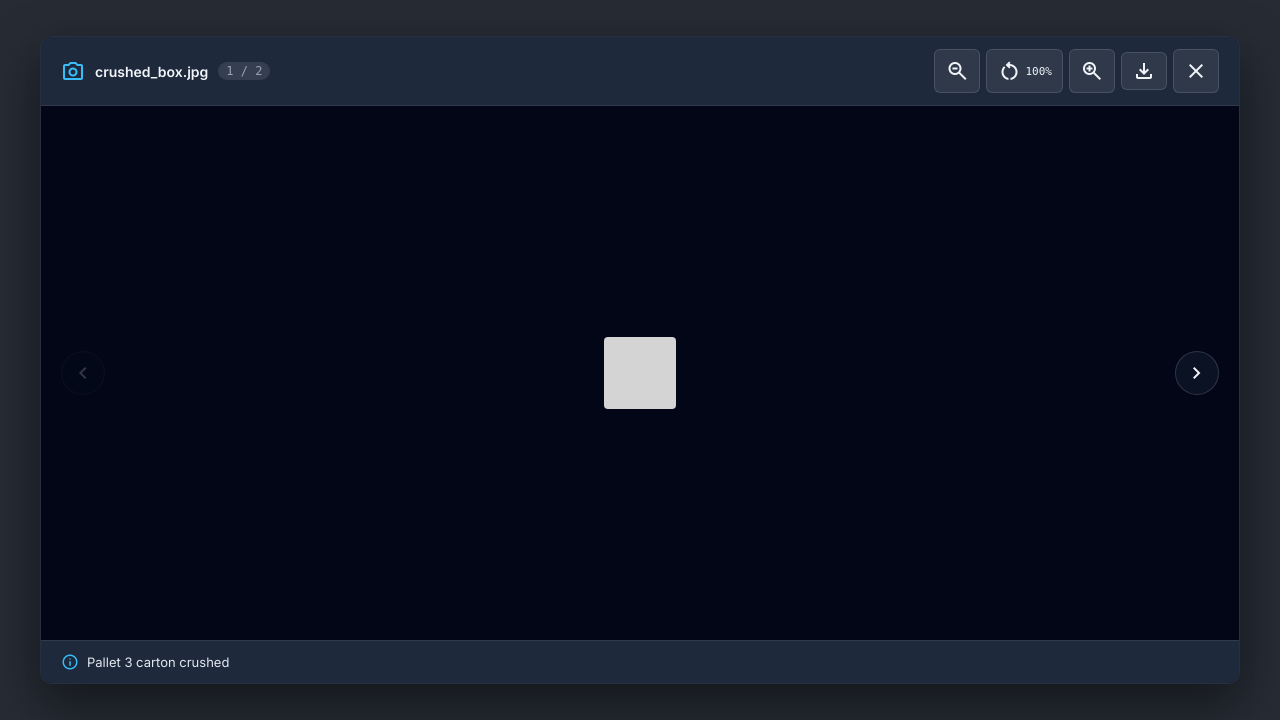
Test: PhotoLightboxModal.vue - Evidence Photo Viewer & Zoom Controls › supports zoom in, zoom out, and reset zoom
Click the button titled "Zoom In" at (1092, 71), box [1069,49,1115,93]
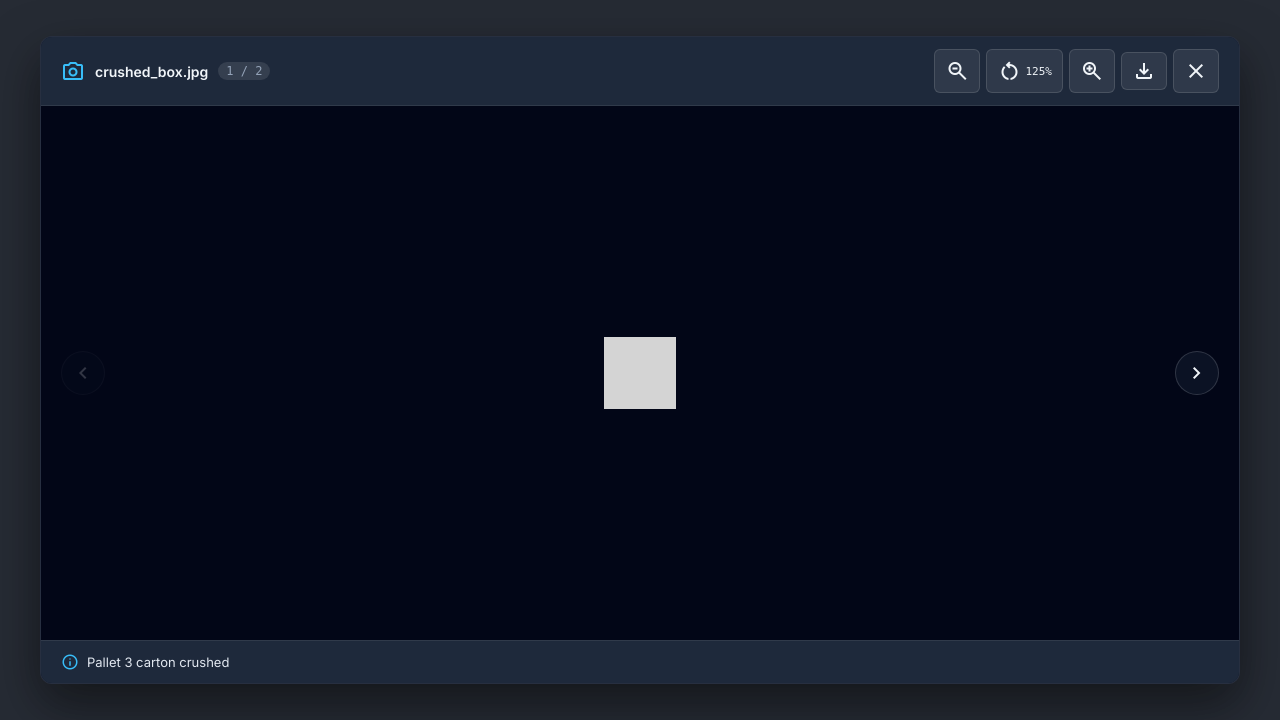
Now the text "125%" is shown, box [1026,64,1052,78]
Click the button titled "Zoom Out" at (957, 71), box [934,49,980,93]
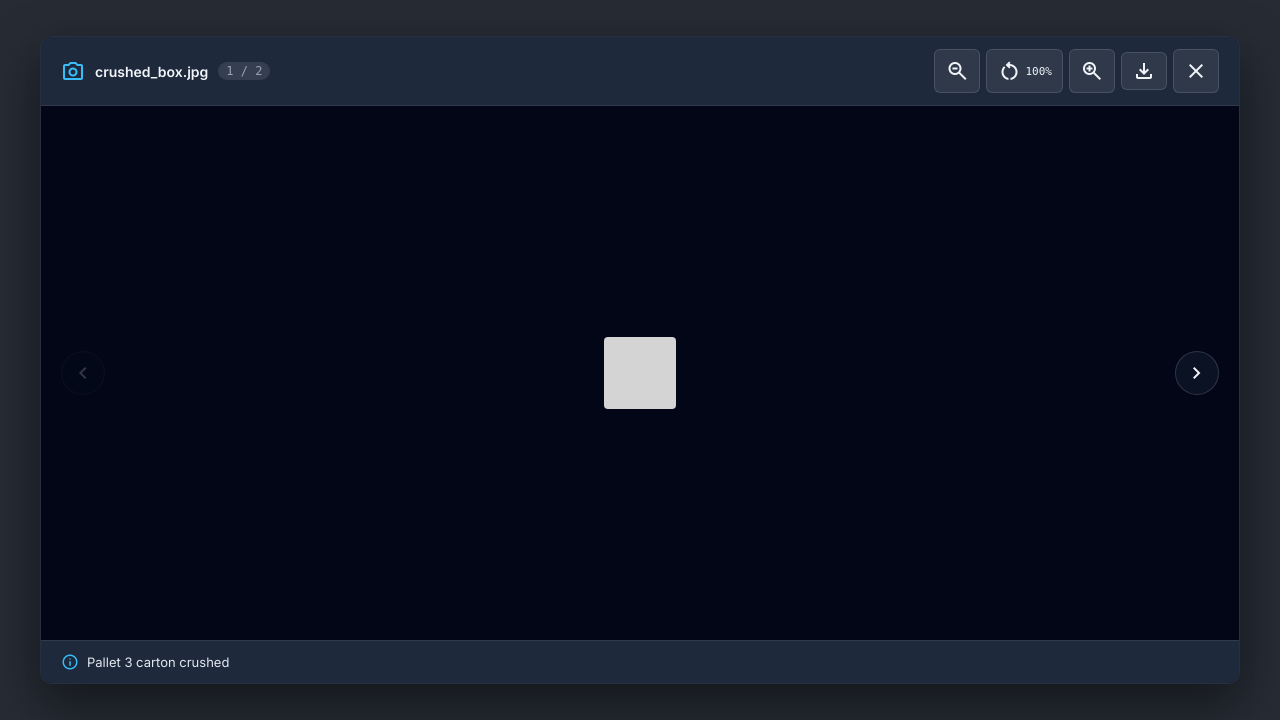
Now the text "100%" is shown, box [1026,64,1052,78]
